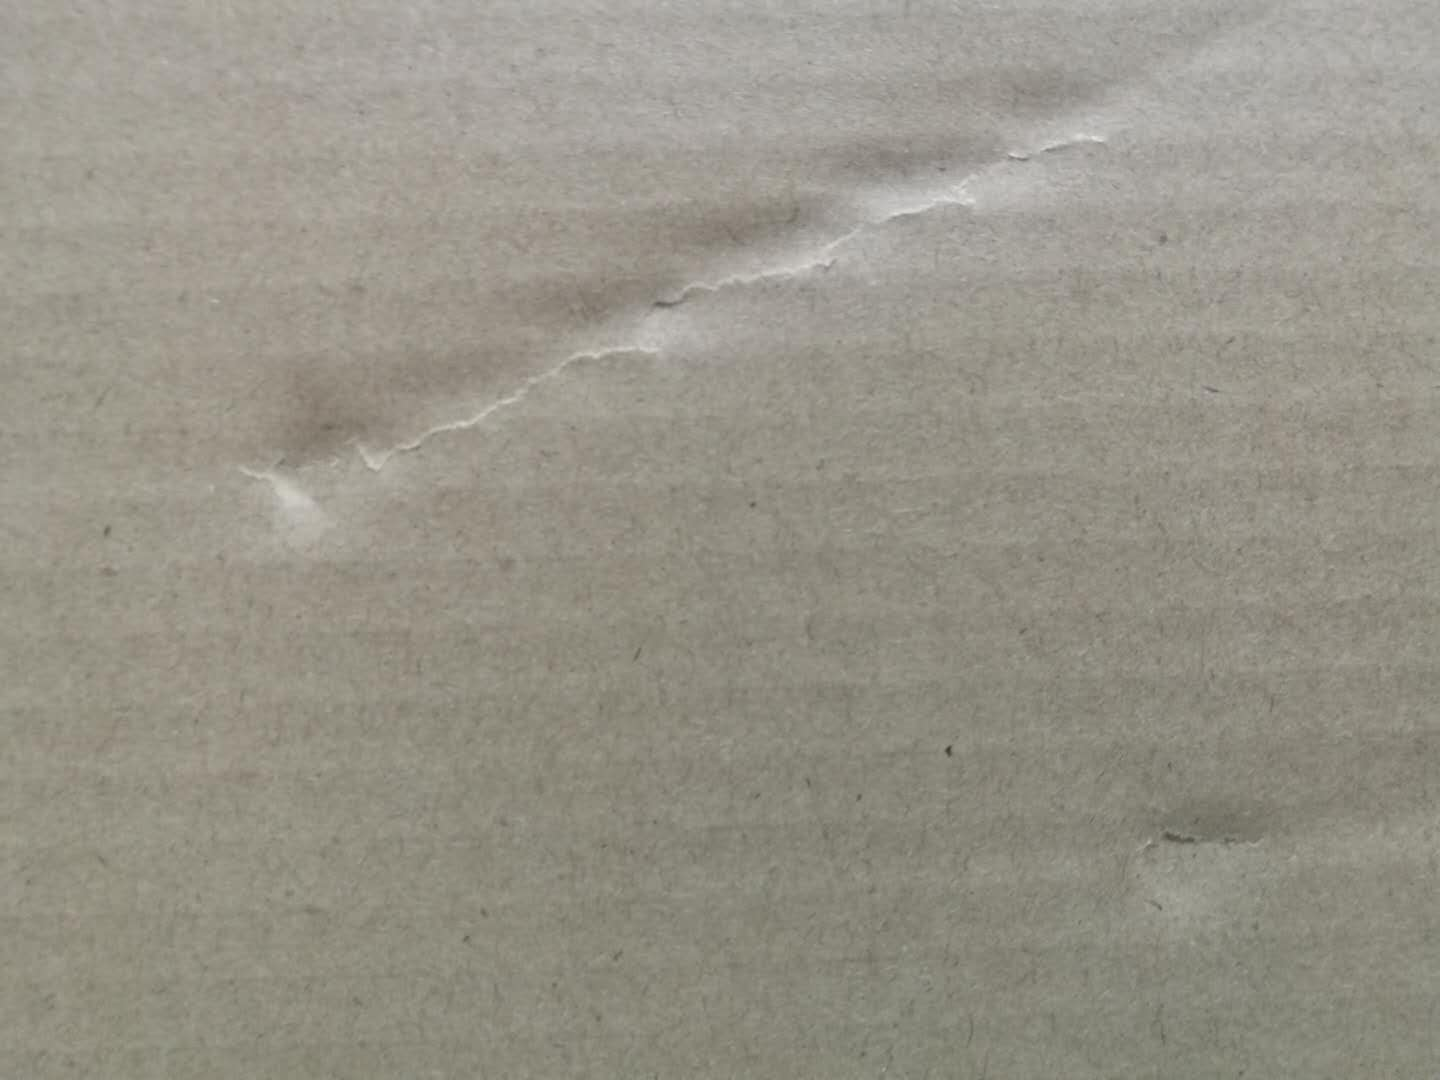defect: (212, 5, 1329, 557), (1108, 777, 1329, 938)
